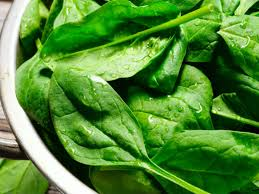spinach: (52, 12, 245, 168)
